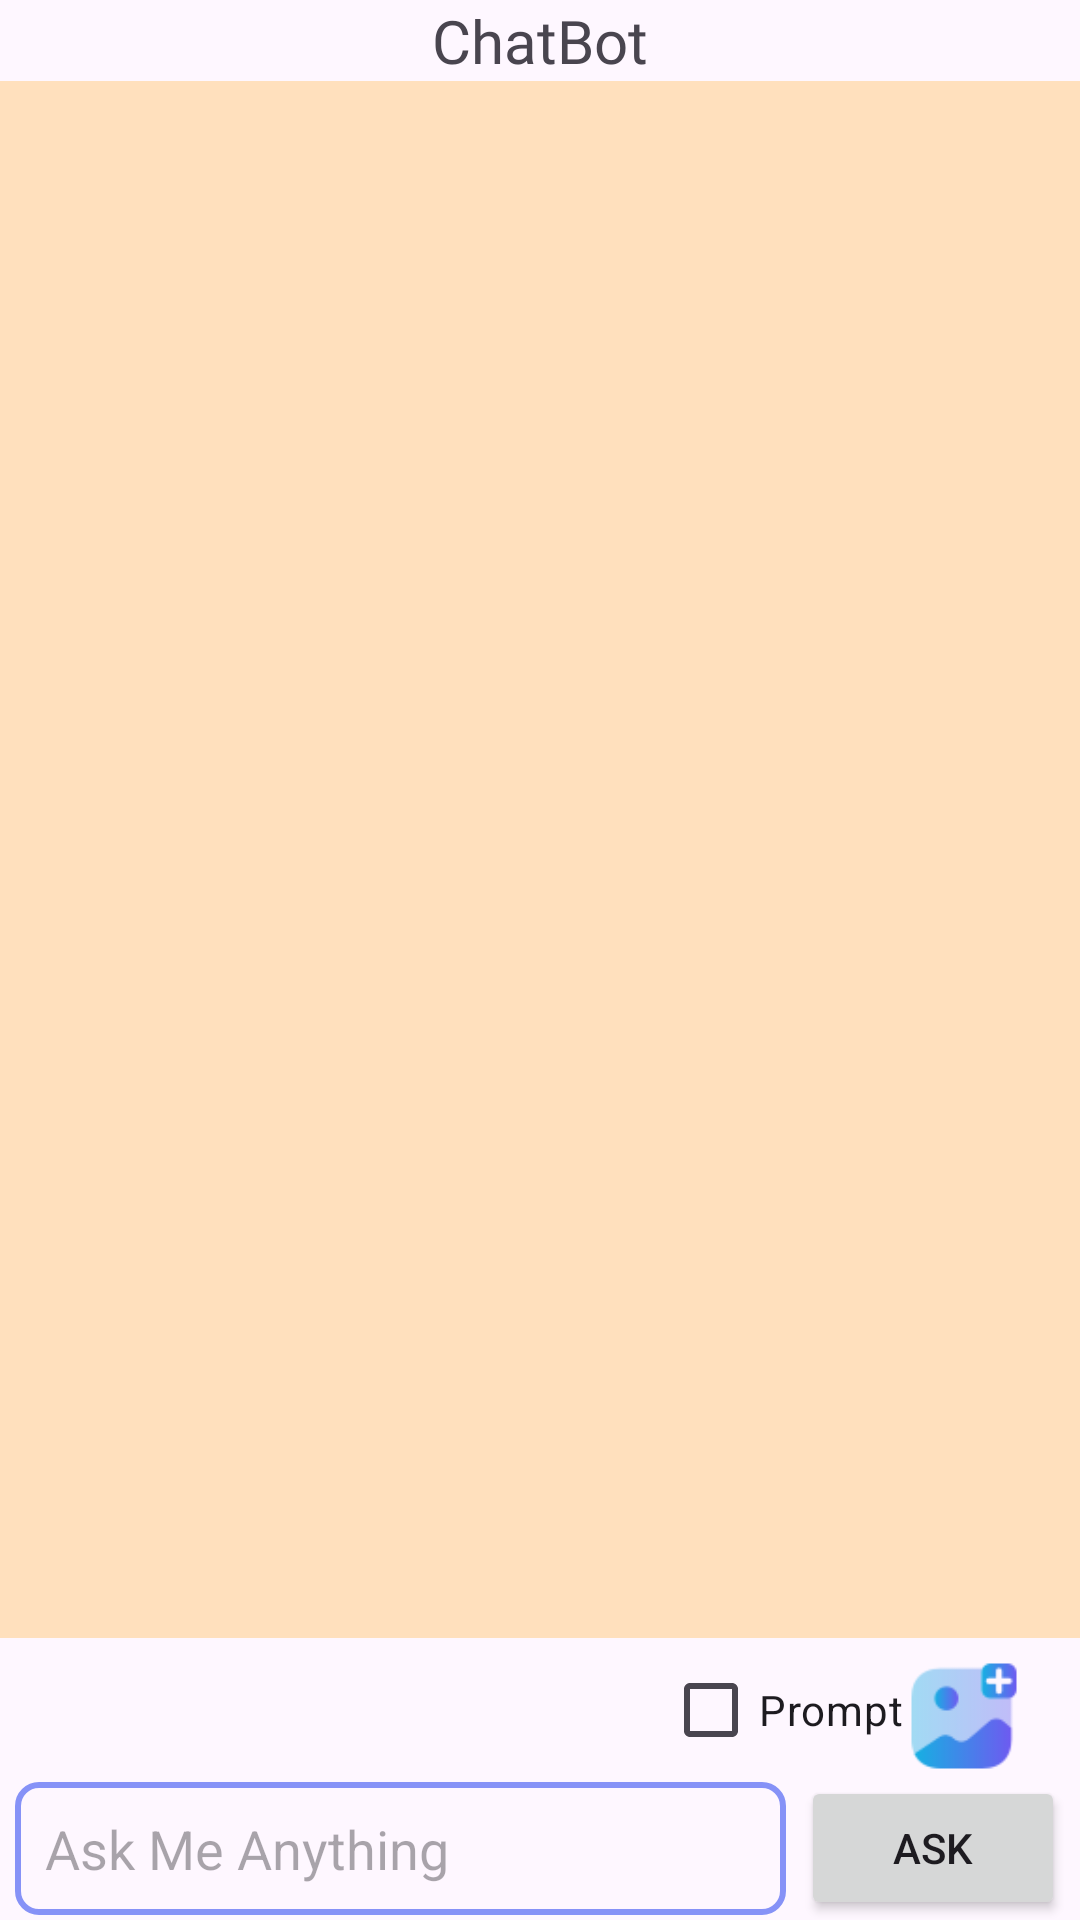

Named icons in this screenshot (1080 x 1920) and their bounding boxes, box=[x1, y1, x2, y2]:
gallery: box=[911, 1663, 1017, 1769]
